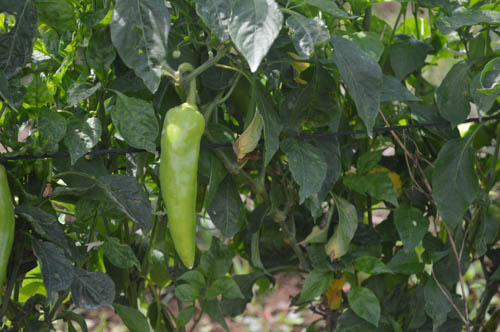ChiliPepper: (161, 106, 203, 268)
